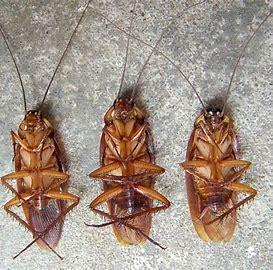cockroach: (82, 0, 175, 256), (168, 3, 267, 242), (0, 0, 80, 269)
